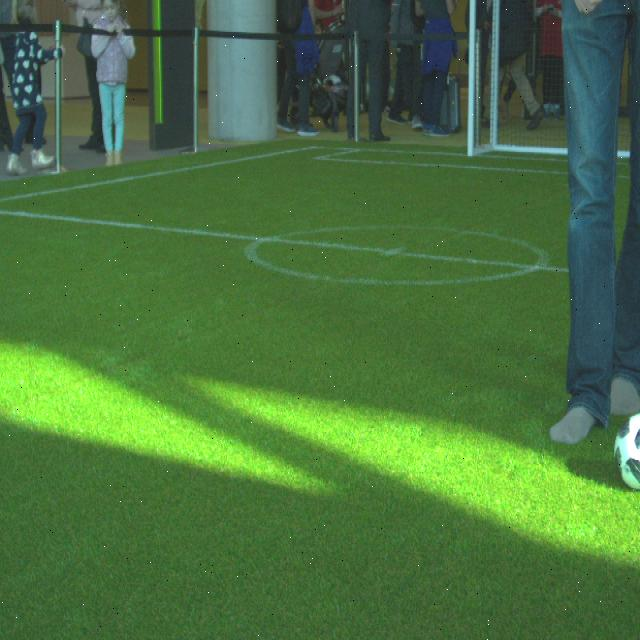ball: (613, 412, 640, 489)
goalpost: (465, 0, 475, 157)
